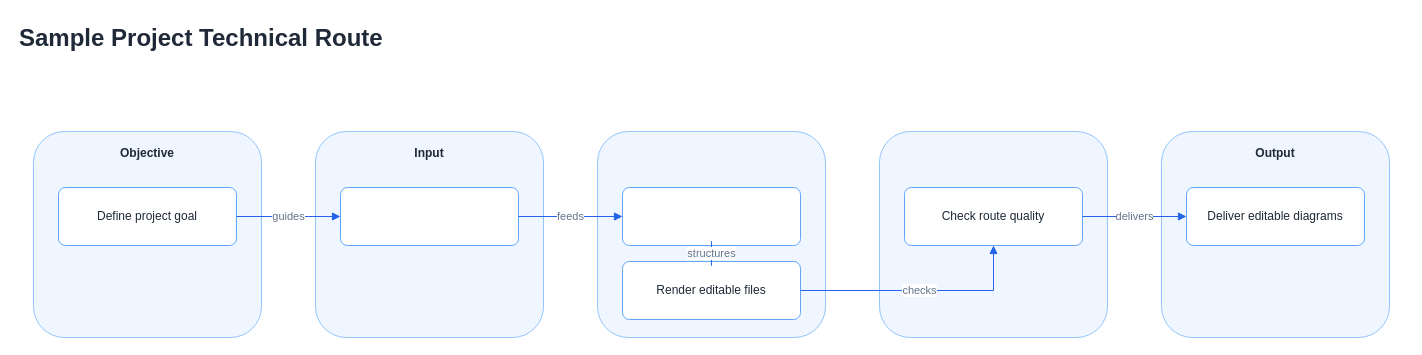
Image size: 1422x355. Some labels were removed from this diagram. The box of each missing label's shape, as (x1, y1, x2, y2) in pixels:
Collect source evidence: (340, 186, 518, 246)
Extract route stages: (622, 186, 800, 246)
Method: (596, 130, 826, 338)
Validation: (878, 130, 1108, 338)
